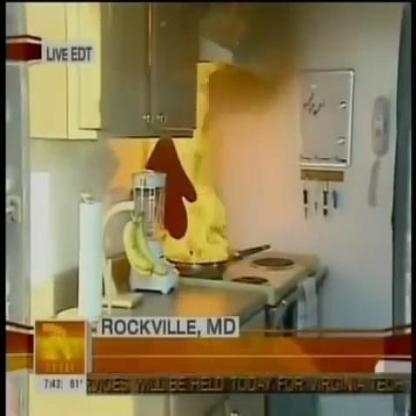fire: (140, 142, 236, 260), (197, 62, 232, 140)
